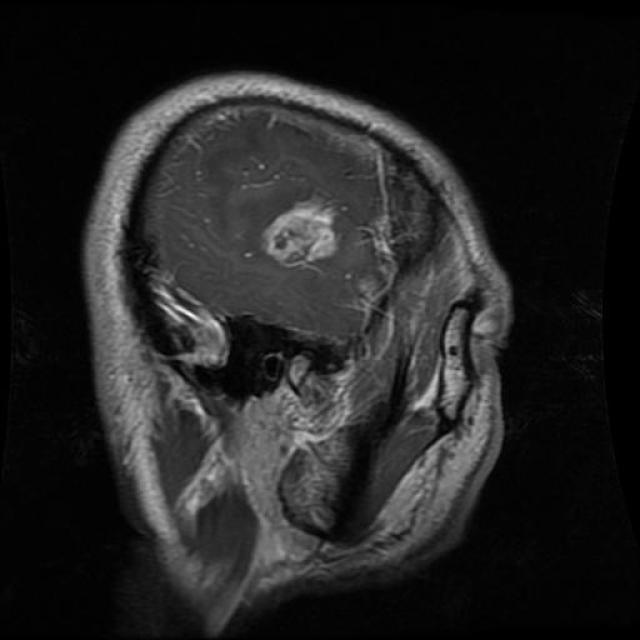glioma: (258, 197, 344, 275)
